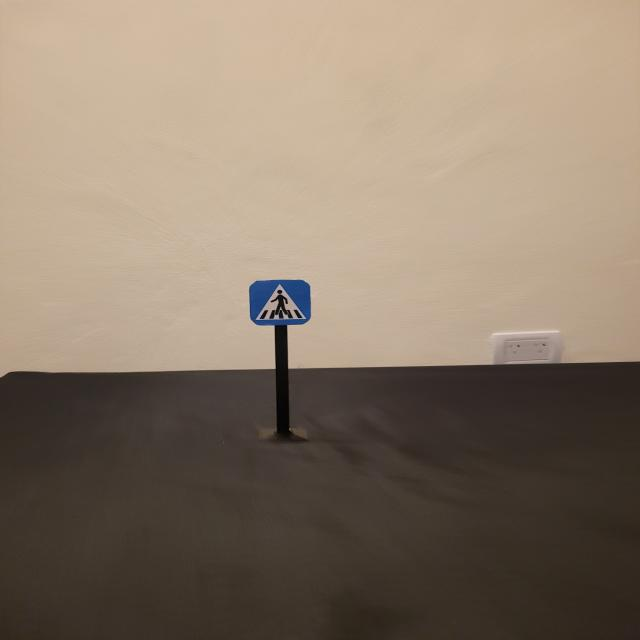crosswalk: (250, 280, 312, 326)
